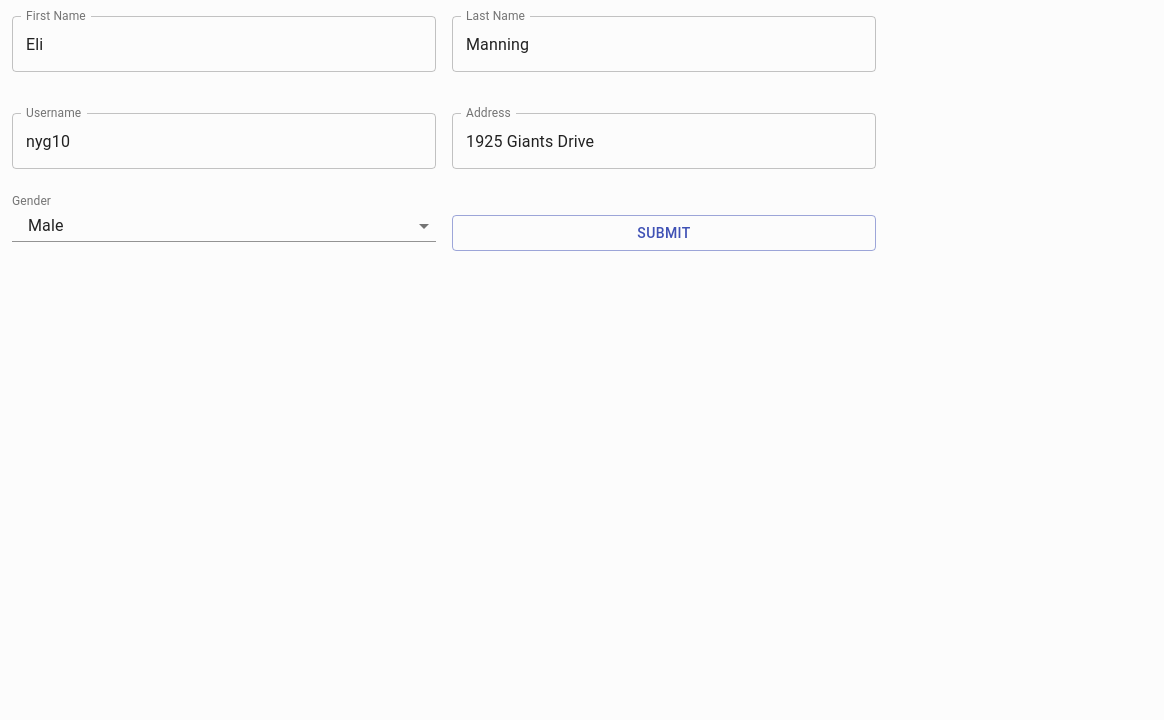
Test: UserForm › renders the error toast when the user fails to update
Click the button "Submit" at x=664, y=233, box [452,214,876,251]
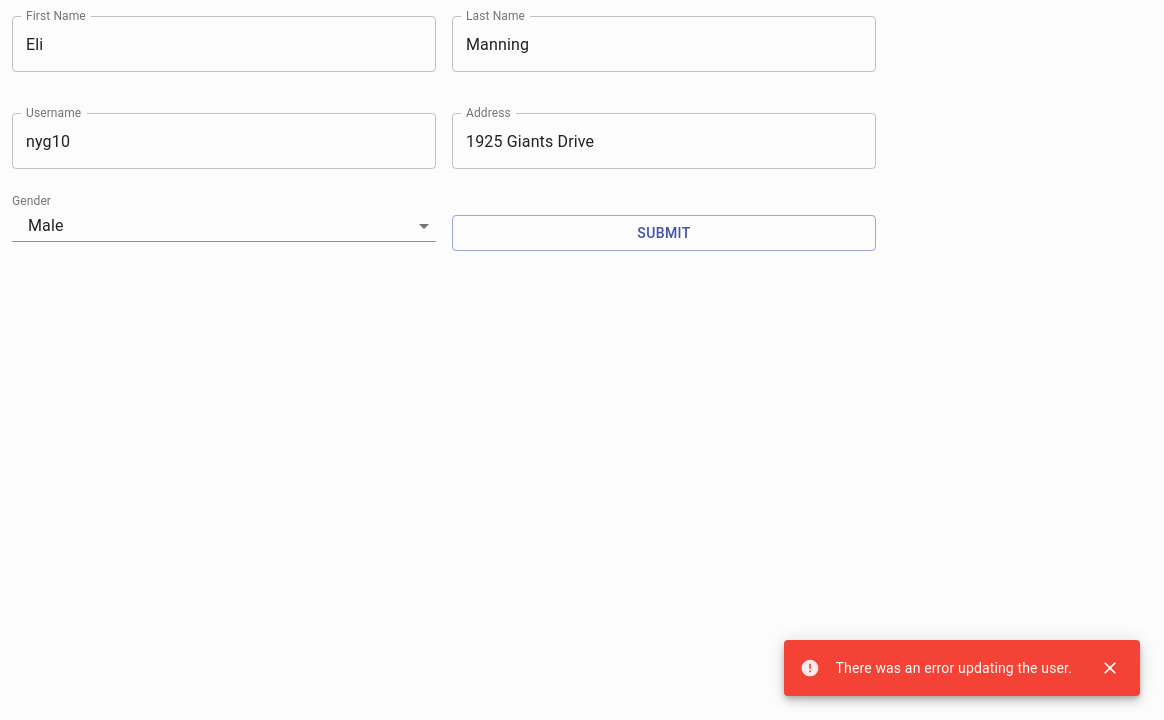
Result: the text "There was an error updating the user." is shown at [800,658,1072,678]
